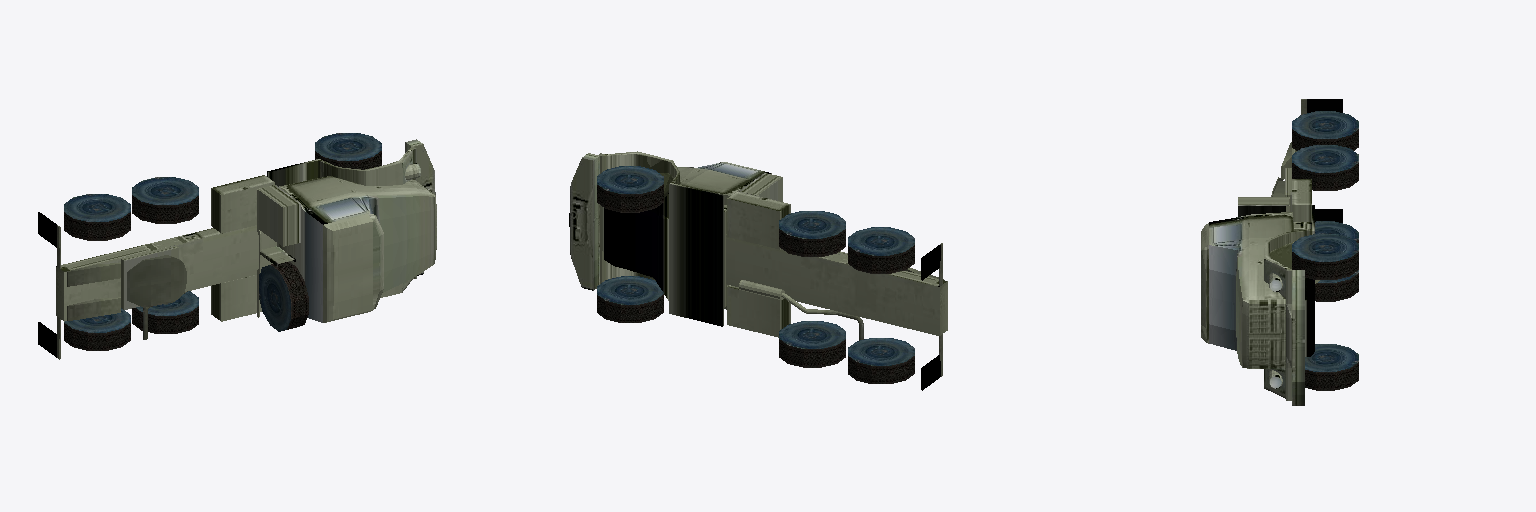
The picture shows the model from 3 angles: view 1: azimuth 30°, elevation 25°; view 2: azimuth 150°, elevation 25°; view 3: azimuth 270°, elevation 25°; orthographic projection.
Visible parts, largest first — view 1: Object__15, Object__9, Object__31, Object__2, Object__17, Object__29, Object__0, Object__25, Object__41, Object__45, Object__37, Object__35 (+11 smaller); view 2: Object__15, Object__9, Object__5, Object__2, Object__0, Object__37, Object__41, Object__45, Object__53, Object__57, Object__49, Object__51 (+9 smaller); view 3: Object__15, Object__5, Object__45, Object__37, Object__41, Object__49, Object__43, Object__39, Object__47, Object__2, Object__17, Object__51 (+3 smaller).
Boxes of the visible parts, x1=… form: Object__15: x1=267, y1=147, x2=436, y2=322; Object__9: x1=56, y1=225, x2=273, y2=321; Object__31: x1=127, y1=255, x2=186, y2=307; Object__2: x1=211, y1=175, x2=274, y2=233; Object__17: x1=258, y1=185, x2=300, y2=246; Object__29: x1=67, y1=263, x2=120, y2=320; Object__0: x1=211, y1=275, x2=261, y2=321; Object__25: x1=259, y1=265, x2=290, y2=331; Object__41: x1=132, y1=177, x2=198, y2=204; Object__45: x1=315, y1=133, x2=381, y2=160; Object__37: x1=64, y1=194, x2=130, y2=221; Object__35: x1=64, y1=212, x2=130, y2=240; Object__15: x1=599, y1=151, x2=771, y2=326; Object__9: x1=726, y1=234, x2=947, y2=335; Object__5: x1=569, y1=153, x2=599, y2=290; Object__2: x1=727, y1=191, x2=790, y2=249; Object__0: x1=727, y1=285, x2=790, y2=337; Object__37: x1=848, y1=227, x2=914, y2=255; Object__41: x1=779, y1=211, x2=845, y2=238; Object__45: x1=597, y1=166, x2=663, y2=193; Object__53: x1=779, y1=321, x2=845, y2=348; Object__57: x1=848, y1=338, x2=914, y2=365; Object__49: x1=597, y1=276, x2=663, y2=304; Object__51: x1=779, y1=339, x2=845, y2=367; Object__15: x1=1201, y1=205, x2=1314, y2=400; Object__5: x1=1292, y1=270, x2=1304, y2=405; Object__45: x1=1292, y1=234, x2=1358, y2=261; Object__37: x1=1292, y1=111, x2=1358, y2=138; Object__41: x1=1292, y1=145, x2=1358, y2=172; Object__49: x1=1305, y1=344, x2=1358, y2=371; Object__43: x1=1292, y1=252, x2=1358, y2=279; Object__39: x1=1292, y1=163, x2=1358, y2=190; Object__47: x1=1305, y1=362, x2=1358, y2=390; Object__2: x1=1292, y1=179, x2=1311, y2=221; Object__17: x1=1238, y1=197, x2=1288, y2=216; Object__51: x1=1315, y1=273, x2=1358, y2=301.
Size of the model in its own units: 1 by 0.34 by 0.3684.
2 materials, 2 textured.